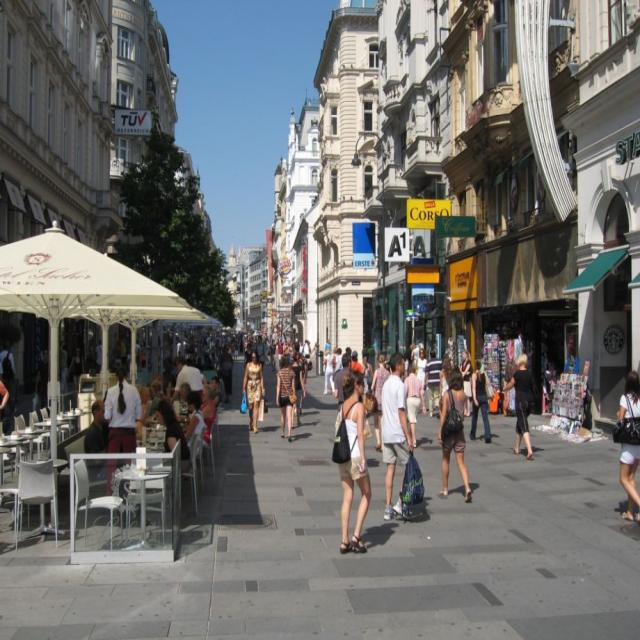body: (328, 367, 372, 556), (379, 351, 425, 521), (436, 366, 474, 506), (103, 365, 143, 496), (610, 367, 639, 524), (500, 350, 538, 462), (82, 398, 113, 499), (152, 399, 192, 473), (238, 347, 269, 434), (468, 359, 496, 444), (274, 352, 299, 442), (369, 352, 391, 453), (156, 320, 221, 354), (404, 364, 427, 449), (169, 355, 208, 403), (30, 344, 53, 418), (540, 338, 563, 412), (286, 350, 307, 430), (360, 516, 400, 552), (137, 367, 165, 418), (423, 348, 442, 419), (220, 326, 258, 361), (0, 337, 17, 412), (183, 390, 204, 449), (333, 351, 353, 411), (109, 337, 150, 366), (198, 383, 216, 447), (458, 348, 474, 417), (413, 347, 429, 415), (438, 355, 454, 419), (219, 343, 235, 404), (185, 354, 218, 382), (66, 346, 85, 394), (164, 380, 194, 409), (359, 356, 374, 406), (501, 366, 515, 418), (321, 348, 336, 396), (446, 479, 481, 499), (403, 338, 429, 363), (253, 335, 267, 380), (369, 335, 404, 351), (59, 340, 69, 394), (210, 374, 223, 414), (276, 338, 311, 352), (288, 430, 314, 446), (348, 350, 364, 374), (164, 354, 176, 382), (0, 378, 10, 411), (267, 338, 276, 373), (95, 338, 103, 374), (243, 342, 254, 368), (414, 435, 434, 449), (289, 352, 312, 364), (332, 347, 343, 372), (258, 423, 280, 432), (298, 418, 320, 426), (324, 338, 333, 356), (262, 331, 271, 346), (344, 345, 352, 361), (312, 340, 320, 356), (303, 362, 312, 376), (302, 410, 322, 415)
